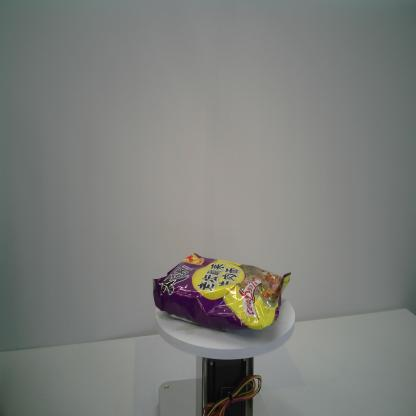Instant Noodles: (152, 250, 293, 334)
